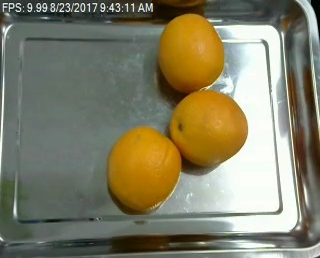Orange: (105, 126, 180, 211), (170, 89, 248, 166), (158, 12, 225, 91)
